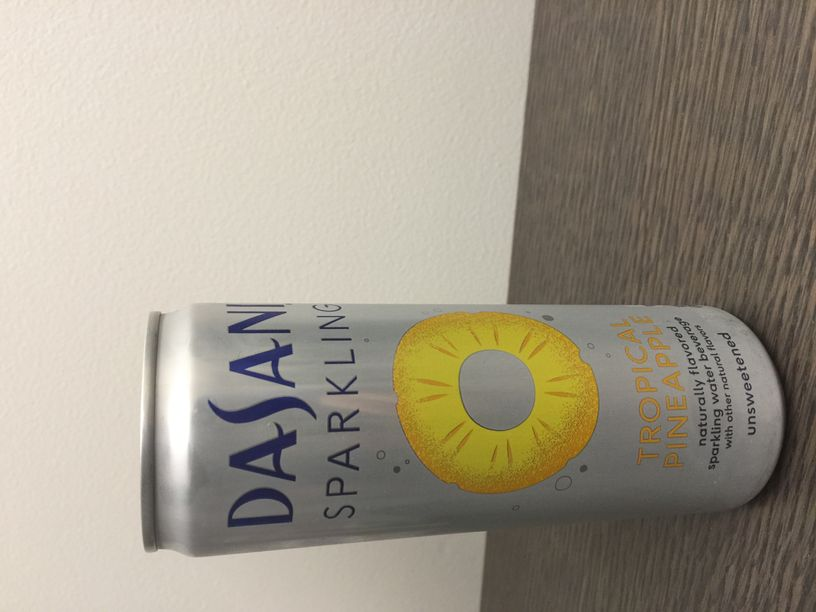pineapple: (141, 303, 778, 557)
